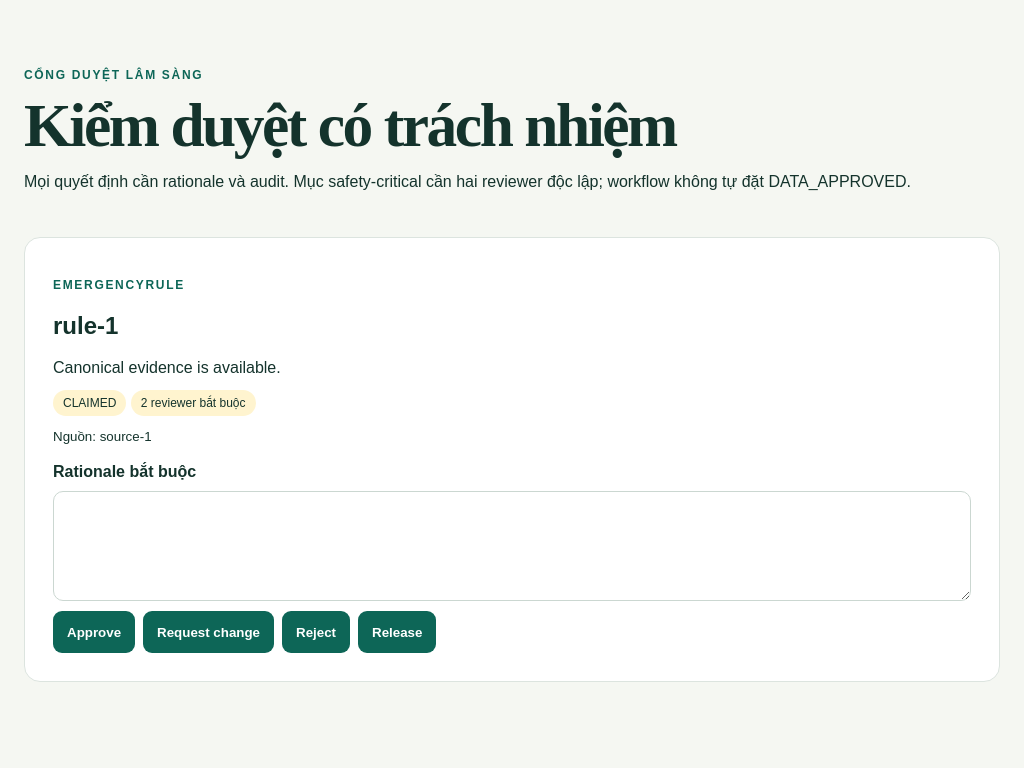
Test: clinical review portal › does not submit a decision without a substantive rationale
The image size is (1024, 768).
Type "too short" into the text box labelled "Rationale bắt buộc". click: (512, 546)
box: top-left (53, 492), bottom-right (971, 602)
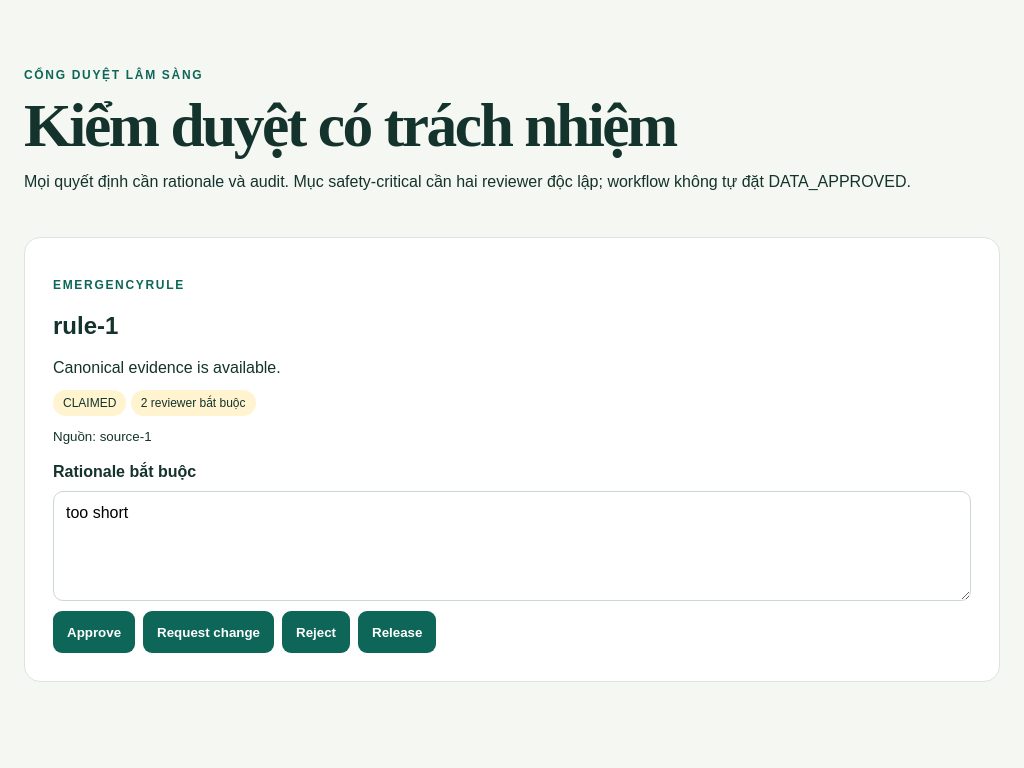
Click the button "Approve". click: (94, 632)
box: top-left (53, 612), bottom-right (135, 654)
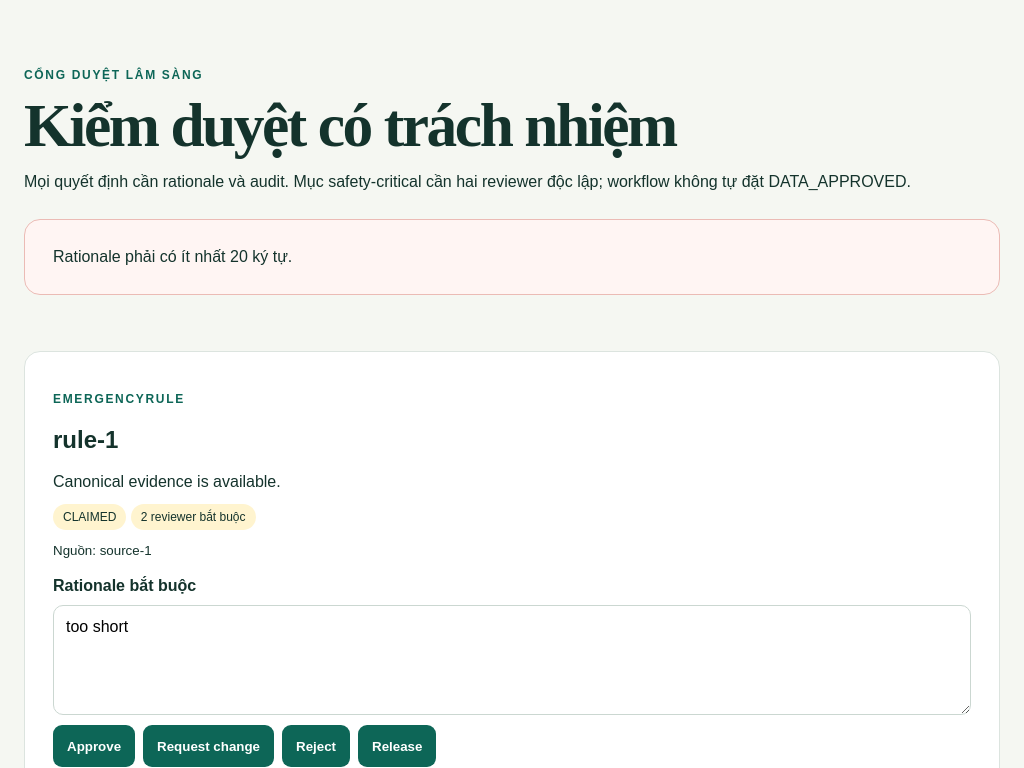
Now the message shows "ít nhất 20 ký tự", box top-left (53, 248), bottom-right (292, 265)
